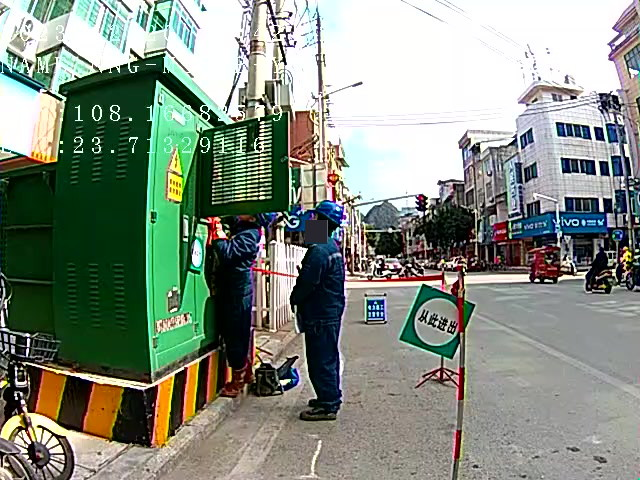downsuit: (301, 327, 342, 405), (216, 315, 254, 361)
halt: (311, 200, 346, 238)
inear: (312, 215, 327, 235)
intosign: (403, 286, 468, 356)
longglove: (204, 215, 229, 242)
person: (290, 201, 348, 419), (207, 206, 260, 398)
shoe: (219, 361, 253, 395)
upsuit: (295, 240, 345, 325), (215, 233, 257, 309)
worksign: (185, 233, 207, 273)
